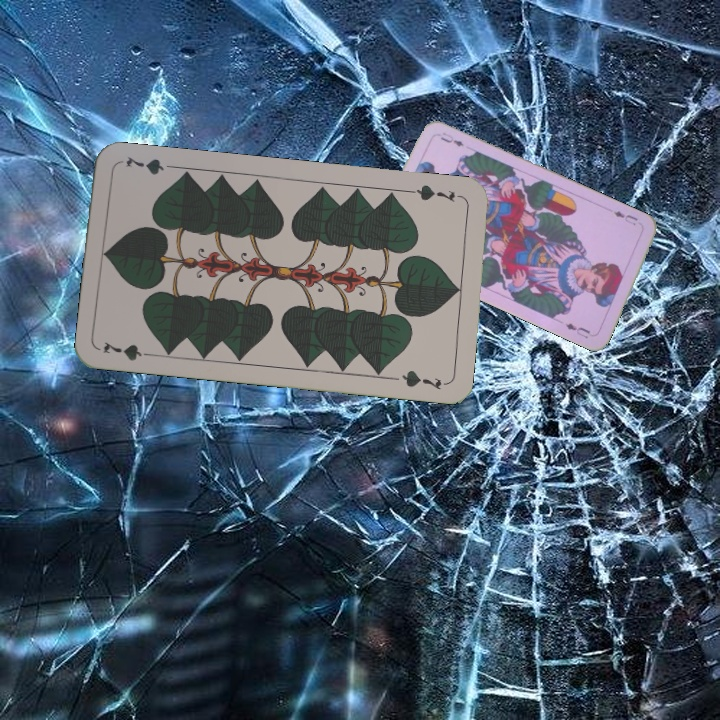EU: (610, 206, 640, 228)
G7: (99, 337, 158, 363), (406, 180, 465, 204)
